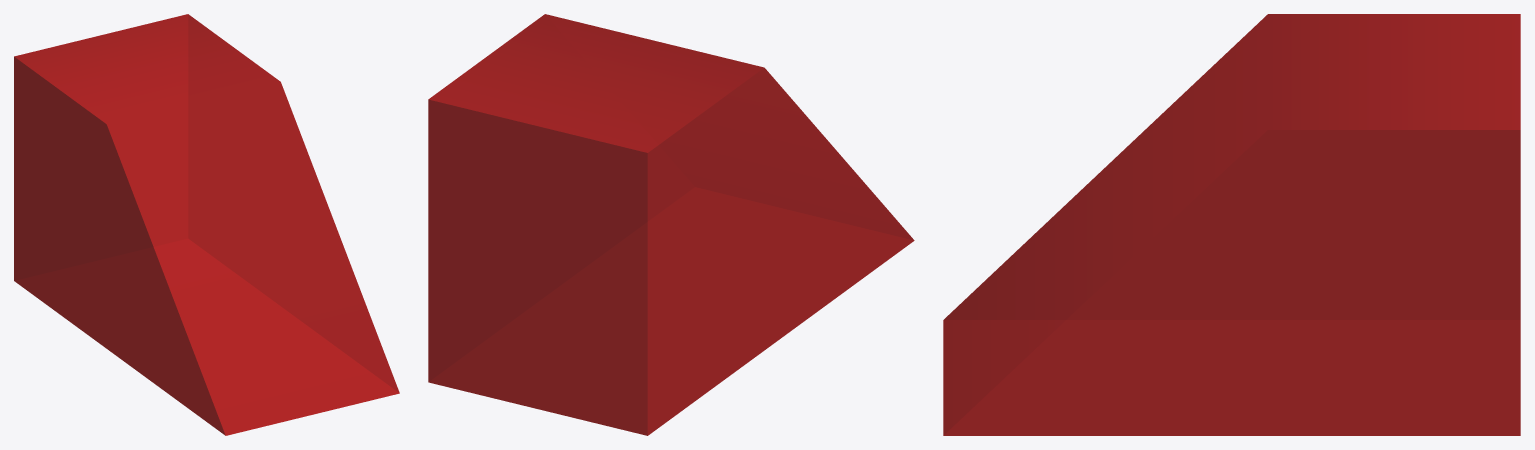
The model's file is SM_Bld_Village_Stairs_02_Collision.fbx.
3 renders of one model, left to right at view 1: azimuth 30°, elevation 25°; view 2: azimuth 150°, elevation 25°; view 3: azimuth 270°, elevation 25°, orthographic. The views are drawn at different scales.
Visible parts, largest first — view 1: SM_Bld_Village_Stairs_02_Collision; view 2: SM_Bld_Village_Stairs_02_Collision; view 3: SM_Bld_Village_Stairs_02_Collision.
Boxes of the visible parts, box(x1,y1,x2,y2) form: SM_Bld_Village_Stairs_02_Collision: box(14, 14, 399, 435); SM_Bld_Village_Stairs_02_Collision: box(428, 14, 914, 435); SM_Bld_Village_Stairs_02_Collision: box(943, 14, 1520, 435).
Size of the model in its own units: 132 by 163 by 279.
